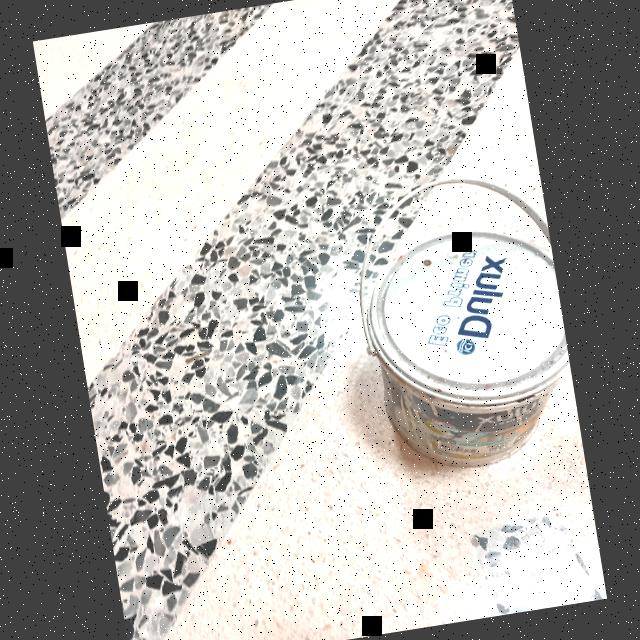paint_bucket: (338, 152, 586, 492)
